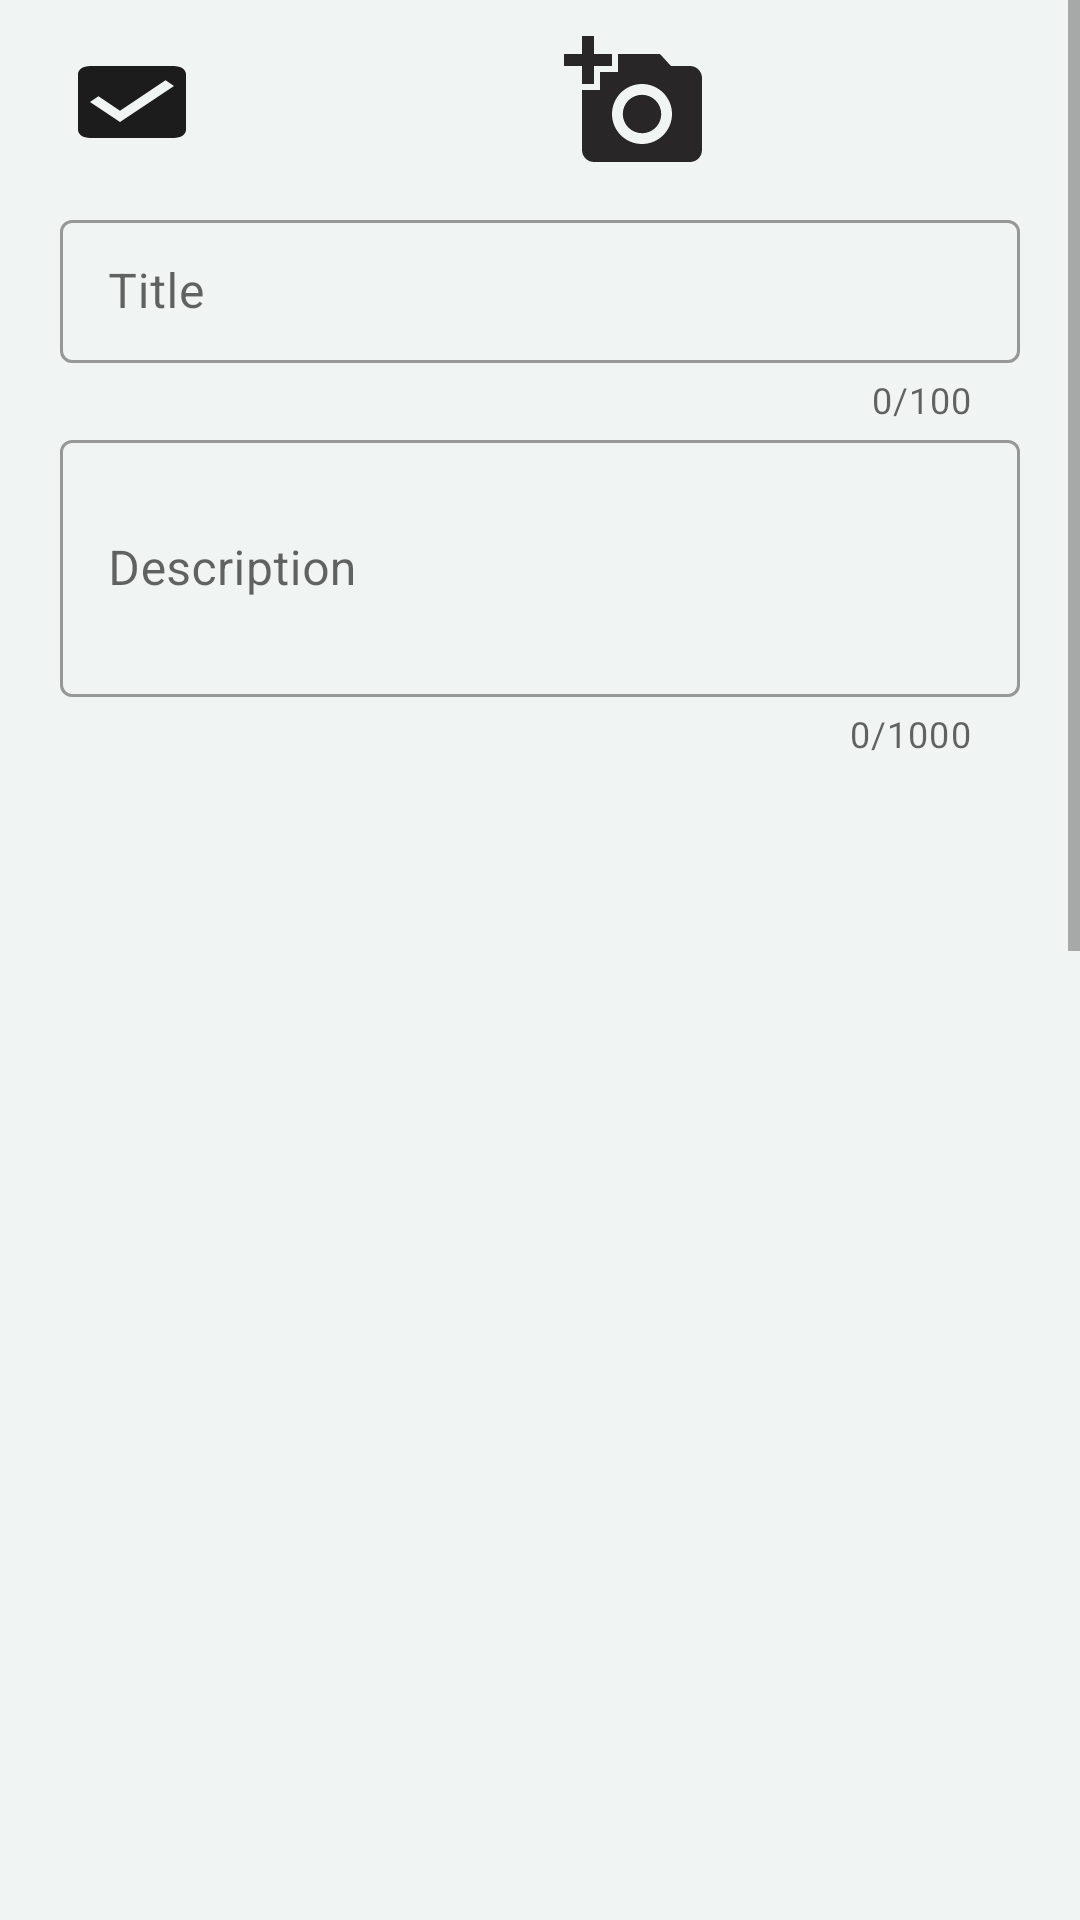

Where icons sit on this 1080 × 1920 app screen, as (x1, y1, x2, y2):
add photo: (564, 36, 702, 162)
check box: (78, 66, 186, 138)
